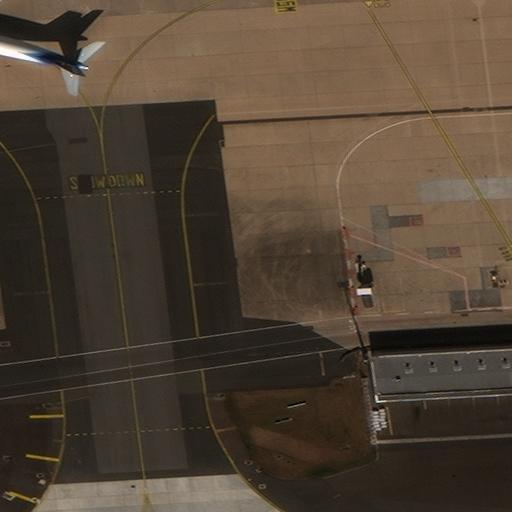Large Civil Transport: (0, 0, 88, 108)
